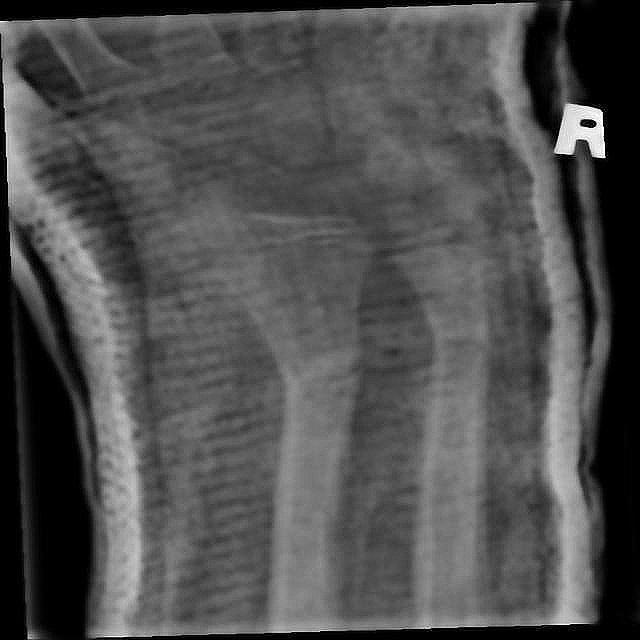bone: (272, 341, 368, 400), (426, 314, 496, 364)
